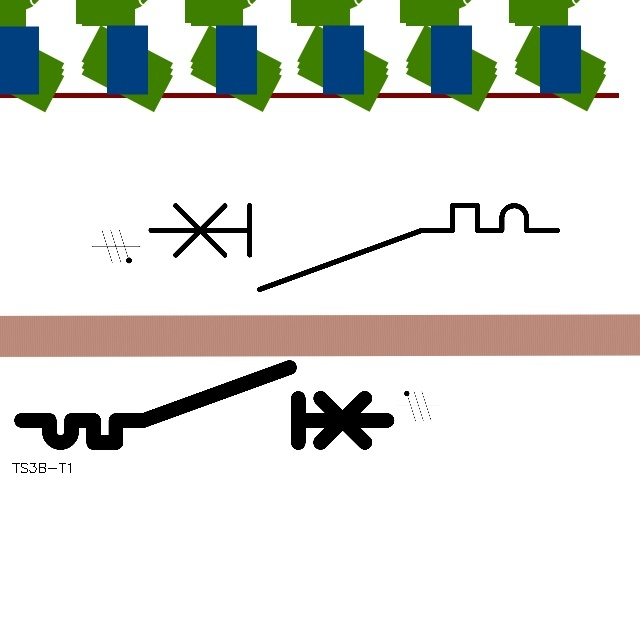interruptor_termomagnetico: (140, 195, 568, 299), (12, 358, 397, 452)
